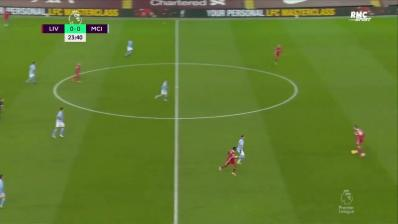football: (349, 147, 357, 157)
player: (350, 122, 370, 160), (50, 105, 70, 140), (218, 145, 238, 178), (152, 79, 172, 104), (235, 133, 249, 167), (24, 61, 42, 86), (272, 42, 286, 68), (70, 61, 85, 84), (0, 172, 8, 212), (123, 38, 137, 58), (2, 8, 13, 30)
